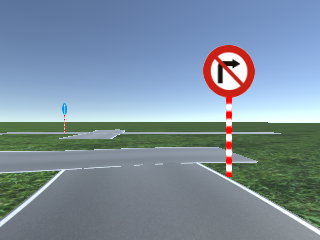-5: (1, 190, 320, 239)
NoRight: (203, 45, 255, 96)
